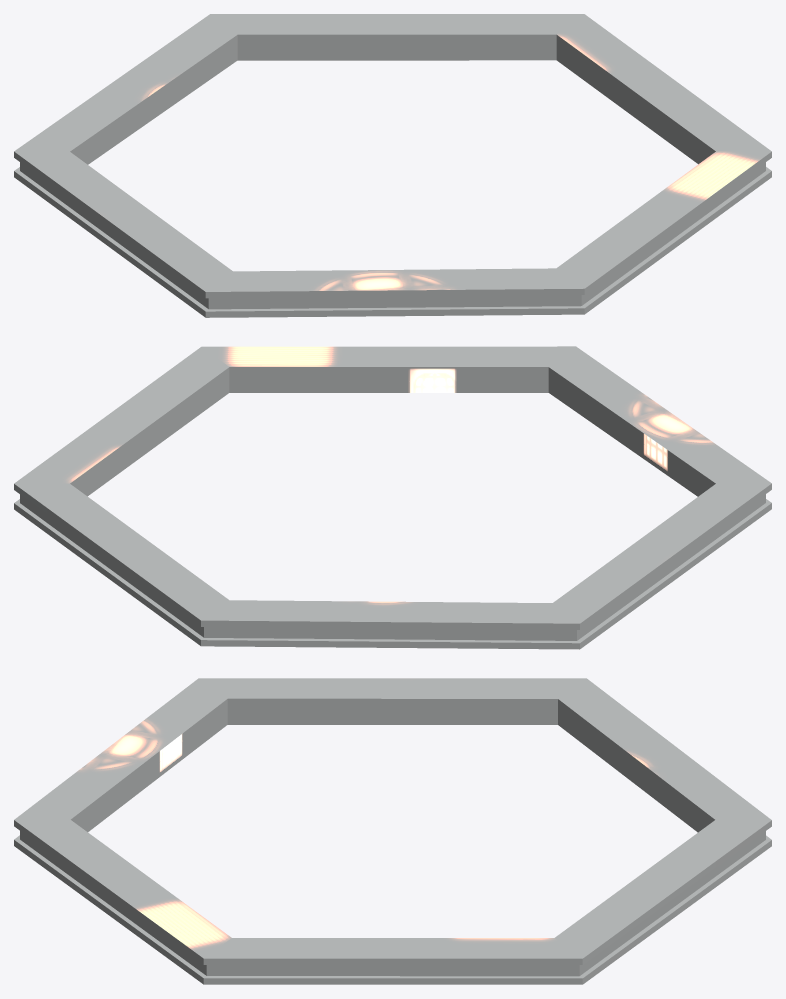
Rendered from SM_ElevatorRing.fbx.
3 renders of one model, top to bottom at view 1: azimuth 30°, elevation 25°; view 2: azimuth 150°, elevation 25°; view 3: azimuth 270°, elevation 25°, orthographic.
Visible parts, largest first — view 1: SM_ElevatorRing_LOD0; view 2: SM_ElevatorRing_LOD0; view 3: SM_ElevatorRing_LOD0.
Boxes of the visible parts, x1=… form: SM_ElevatorRing_LOD0: x1=14, y1=14, x2=771, y2=317; SM_ElevatorRing_LOD0: x1=14, y1=346, x2=771, y2=649; SM_ElevatorRing_LOD0: x1=14, y1=678, x2=771, y2=984.
Size of the model in its own units: 800 by 34.71 by 914.
Materials: 1 (1 with a texture image).
